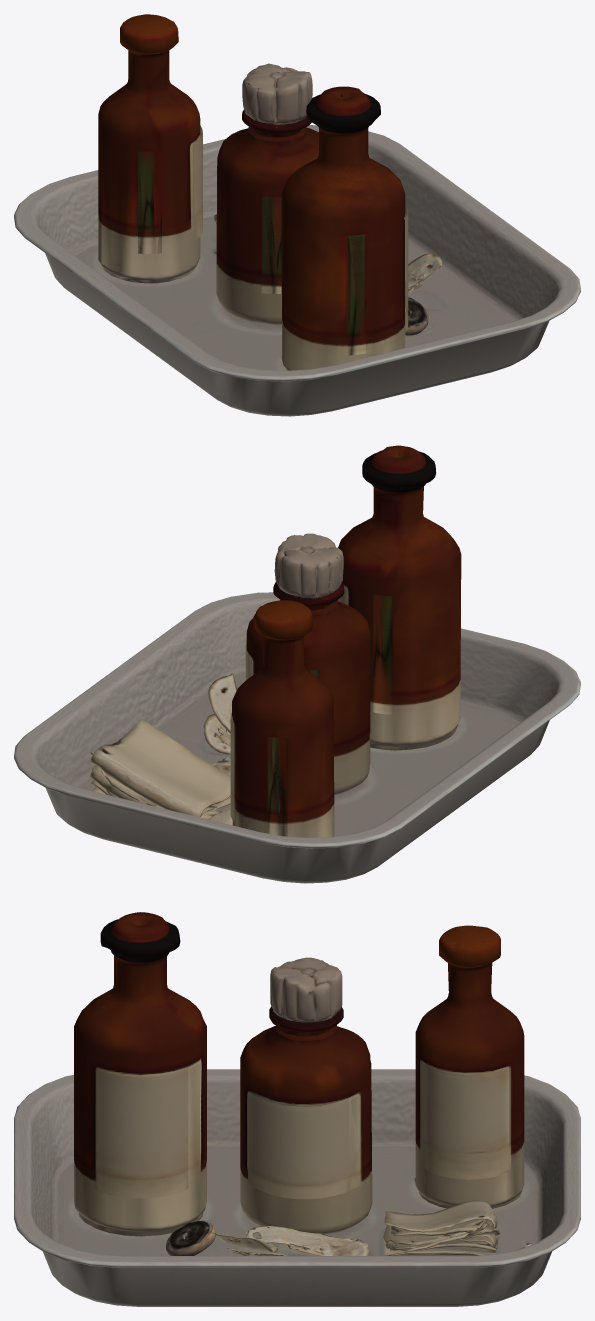
3 views of the same model, one above another, from view 1: azimuth 30°, elevation 25°; view 2: azimuth 150°, elevation 25°; view 3: azimuth 270°, elevation 25° (orthographic). The views are drawn at different scales.
Parts seen in each view (by area): view 1: tripo_node_a09ca7cb-161b-4694-86eb-97a1b4c70cb1; view 2: tripo_node_a09ca7cb-161b-4694-86eb-97a1b4c70cb1; view 3: tripo_node_a09ca7cb-161b-4694-86eb-97a1b4c70cb1.
Part boxes in pixels (x1=…): tripo_node_a09ca7cb-161b-4694-86eb-97a1b4c70cb1: x1=14, y1=14, x2=580, y2=416; tripo_node_a09ca7cb-161b-4694-86eb-97a1b4c70cb1: x1=14, y1=445, x2=580, y2=883; tripo_node_a09ca7cb-161b-4694-86eb-97a1b4c70cb1: x1=14, y1=912, x2=580, y2=1306.
Size of the model in its own units: 0.8145 by 0.584 by 0.998.
Materials: 1 (1 with a texture image).
